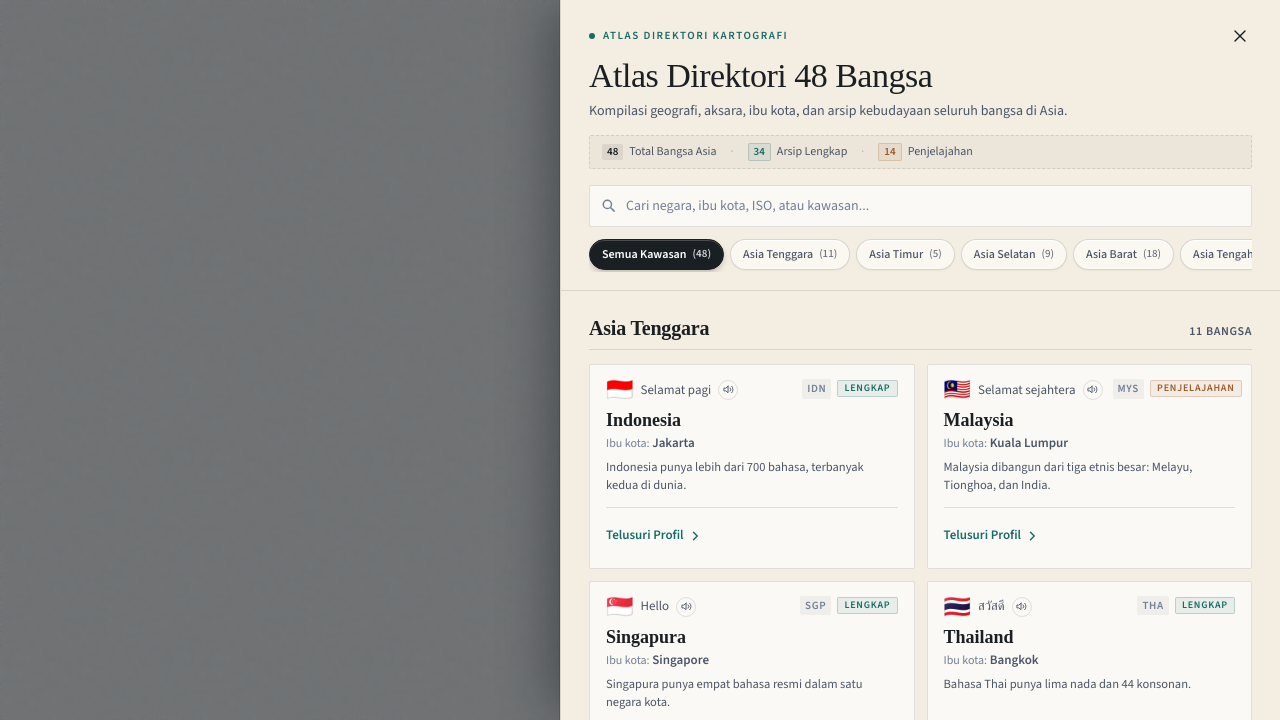
Test: CountryDirectoryDrawer (Atlas Direktori 48 Bangsa) › memfilter negara secara instan melalui kolom pencarian
Type "Uzbekistan" into the field with placeholder "Cari negara, ibu kota, ISO, atau kawasan..." at (920, 206), box [589, 185, 1252, 227]
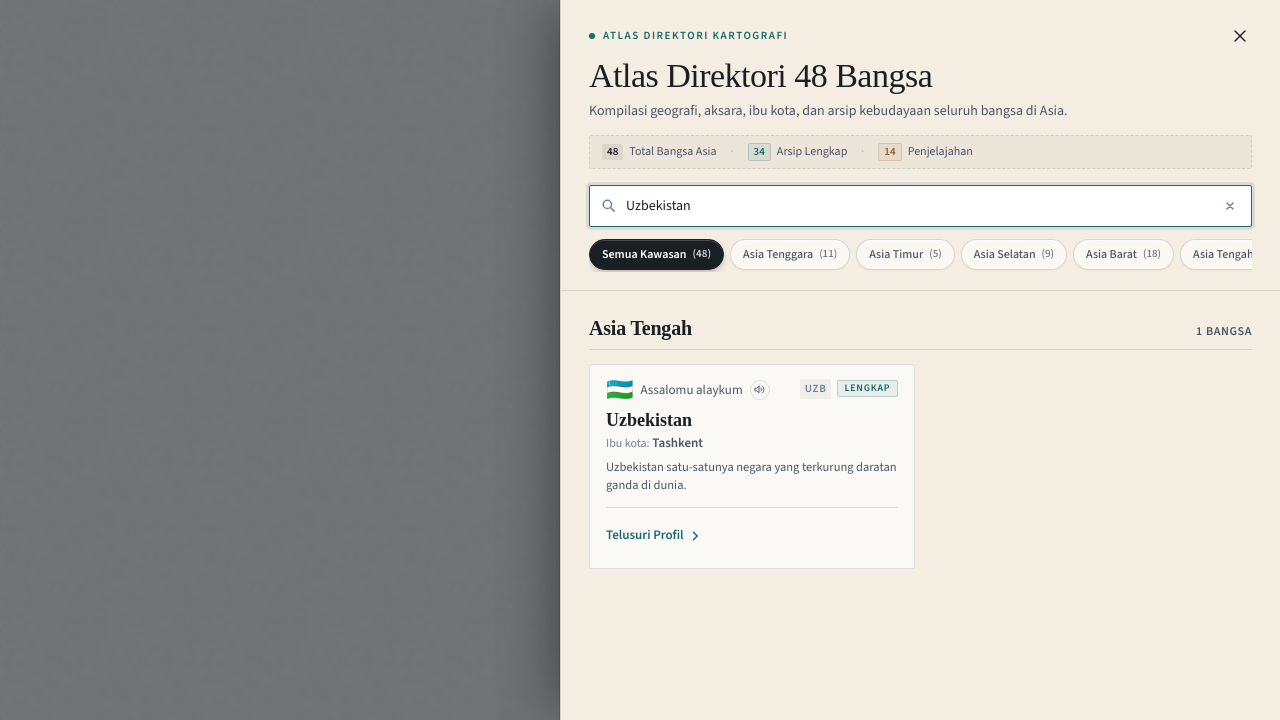
Expected: the text "Tashkent" is shown, [652, 434, 703, 452]
